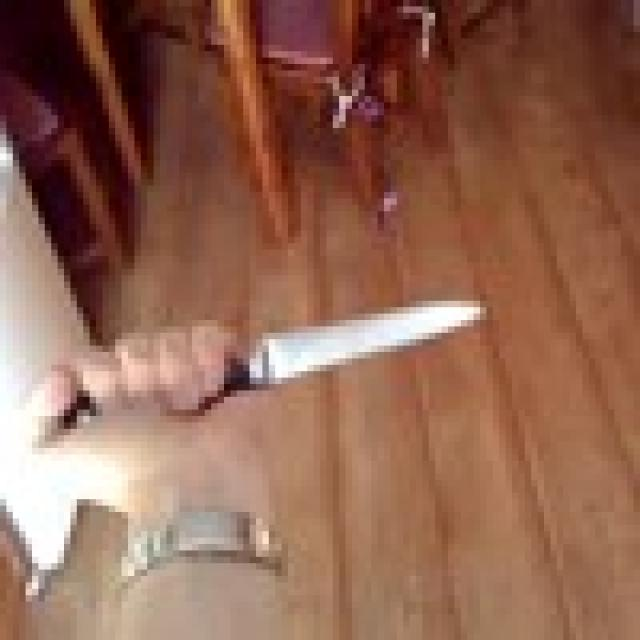Knife: (121, 294, 492, 416)
